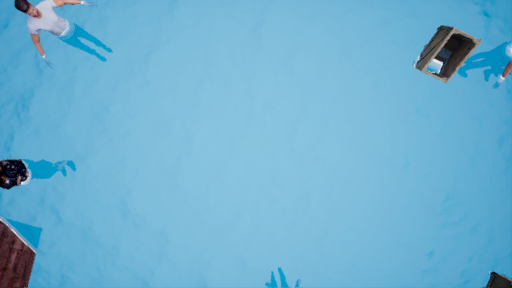person: (12, 2, 113, 78), (3, 154, 93, 205)
